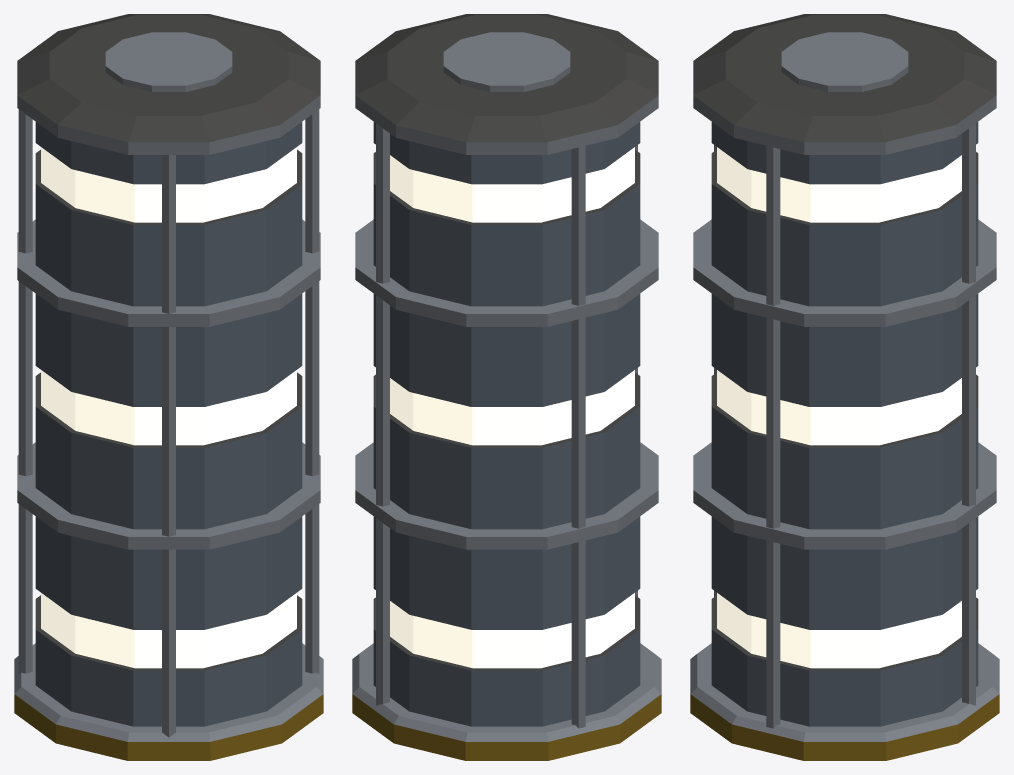
The model's file is reactor_core.glb.
3 renders of one model, left to right at view 1: azimuth 30°, elevation 25°; view 2: azimuth 150°, elevation 25°; view 3: azimuth 270°, elevation 25°, orthographic.
Parts seen in each view (by area): view 1: reactor_core; view 2: reactor_core; view 3: reactor_core.
Boxes of the visible parts, left/top/right/bottom form: reactor_core: left=14, top=14, right=323, bottom=760; reactor_core: left=352, top=14, right=661, bottom=760; reactor_core: left=690, top=14, right=999, bottom=760.
Size of the model in its own units: 4.4 by 10 by 4.4.
